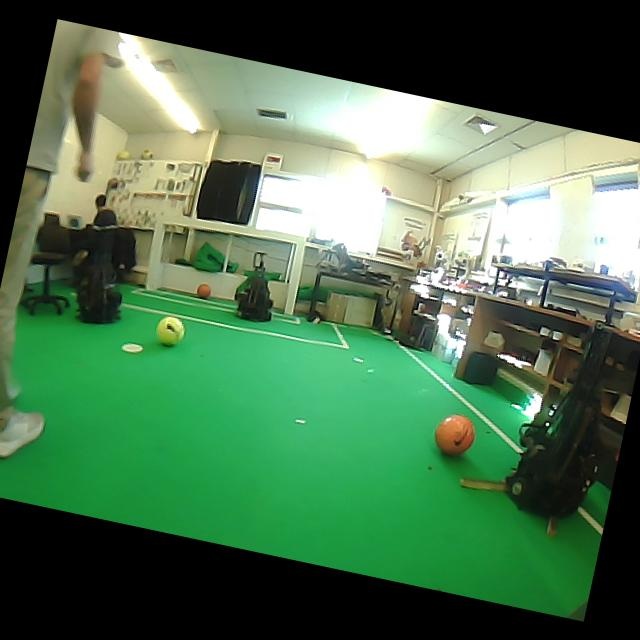ball: (434, 414, 474, 454), (156, 316, 184, 345), (196, 283, 210, 297), (140, 149, 153, 159), (116, 150, 129, 160)
goal: (283, 236, 305, 314), (145, 222, 166, 290)
robot: (504, 324, 611, 517), (76, 230, 122, 323), (235, 251, 272, 321)
